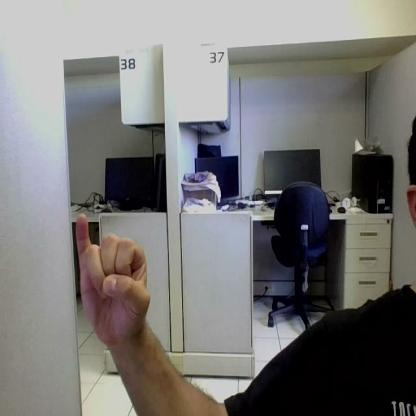I: (76, 213, 150, 339)
